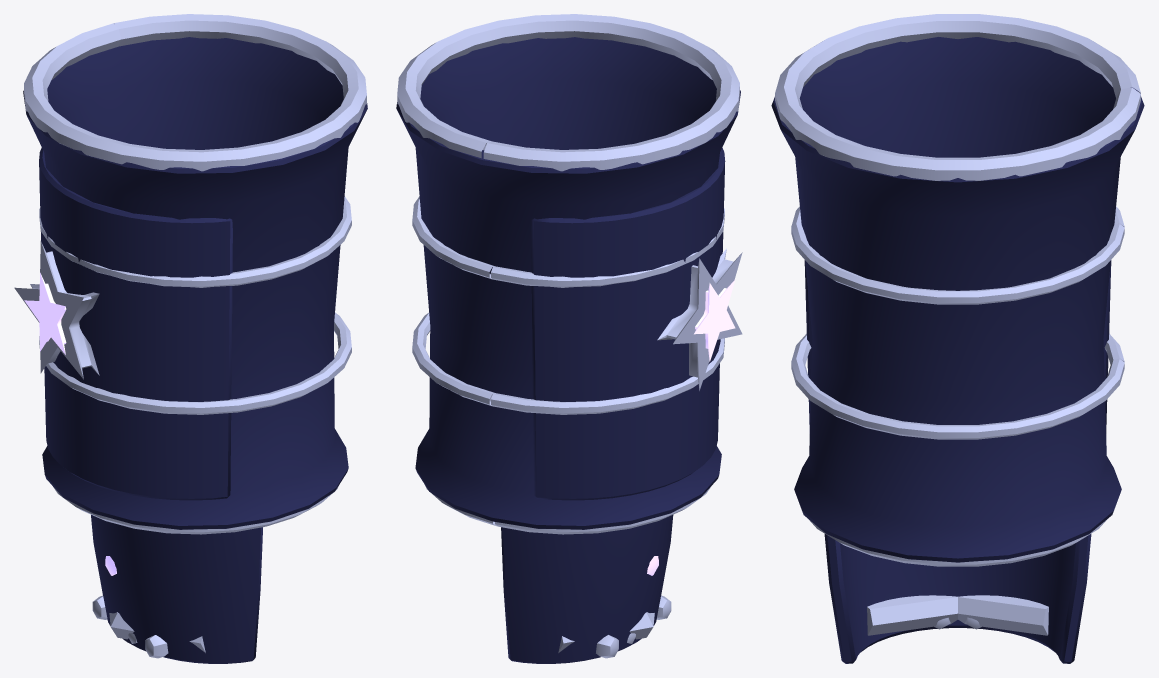
File: asc_starfall_vanguard_gloves_R.glb
3 views of the same model, side by side, from view 1: azimuth 30°, elevation 25°; view 2: azimuth 150°, elevation 25°; view 3: azimuth 270°, elevation 25° (orthographic). The views are drawn at different scales.
Visible parts, largest first — view 1: asc_starfall_vanguard_gloves, AT_hand_R; view 2: asc_starfall_vanguard_gloves, AT_hand_R; view 3: asc_starfall_vanguard_gloves, AT_hand_R.
Boxes of the visible parts, <box> form: asc_starfall_vanguard_gloves: <box>14,14,367,534</box>; AT_hand_R: <box>91,515,262,663</box>; asc_starfall_vanguard_gloves: <box>396,14,742,534</box>; AT_hand_R: <box>501,515,673,663</box>; asc_starfall_vanguard_gloves: <box>771,14,1144,566</box>; AT_hand_R: <box>824,534,1091,663</box>.
Bounding box in the file's own units: 0.1971 × 0.3408 × 0.2004.
